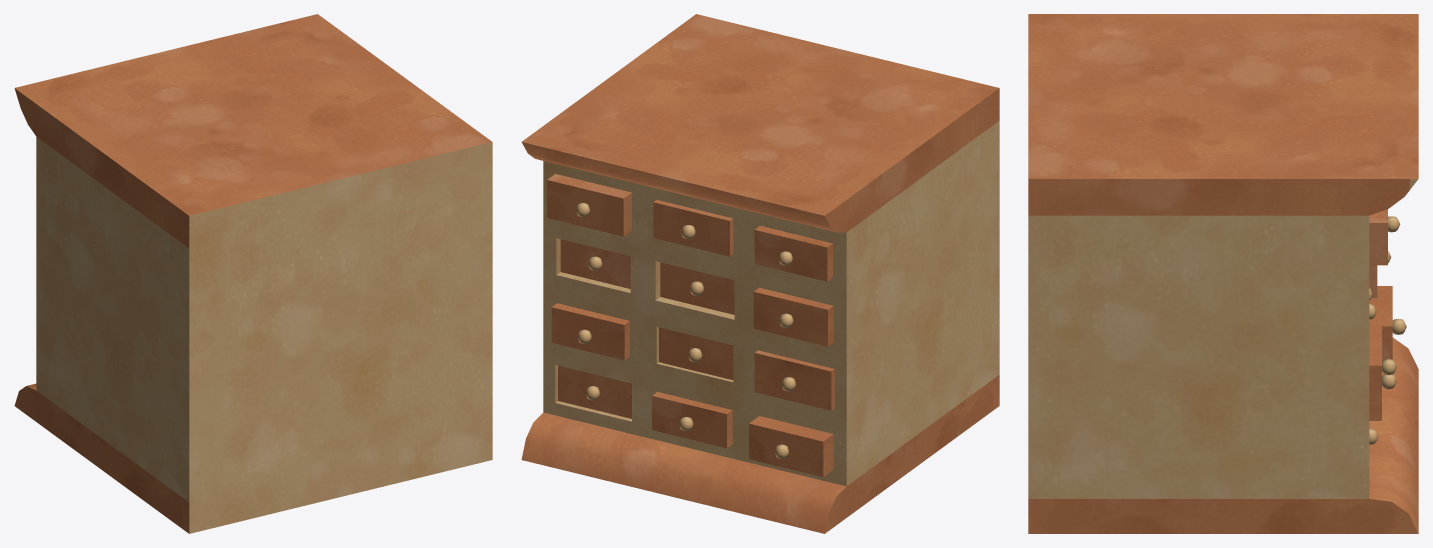
The model's file is SM_Little_Dresser_02.fbx.
The picture shows the model from 3 angles, left to right: view 1: azimuth 30°, elevation 25°; view 2: azimuth 150°, elevation 25°; view 3: azimuth 270°, elevation 25°; orthographic projection. The views are drawn at different scales.
Visible parts, largest first — view 1: SM_Little_Dresser_02; view 2: SM_Little_Dresser_02; view 3: SM_Little_Dresser_02.
Boxes of the visible parts, x1,y1,x2,y2 form: SM_Little_Dresser_02: (14,14,492,533); SM_Little_Dresser_02: (521,14,999,533); SM_Little_Dresser_02: (1028,14,1418,533).
Bounding box in the file's own units: 100 × 100 × 99.84.
